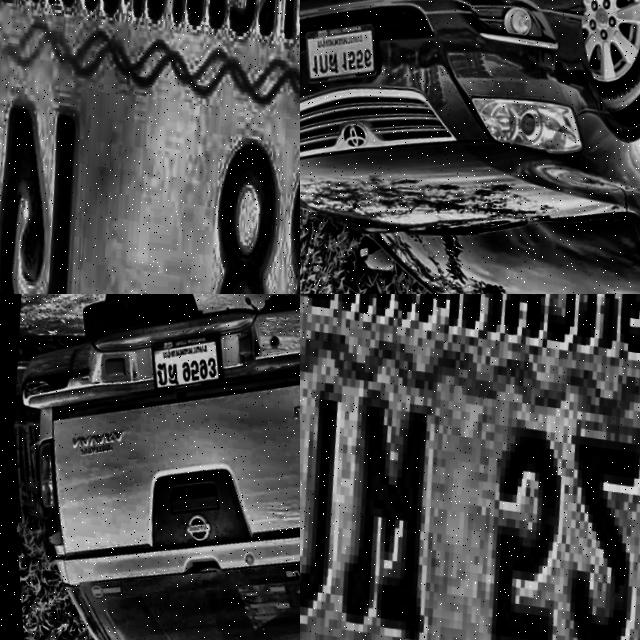license-plate: (300, 294, 640, 640), (0, 0, 300, 294), (137, 314, 228, 403), (300, 6, 384, 96)
